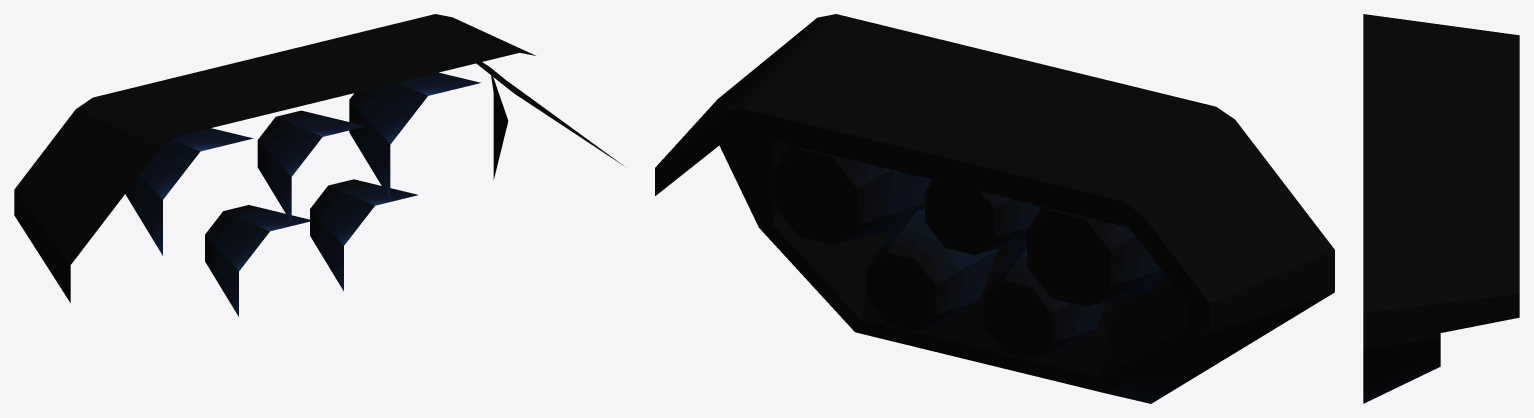
Rendered from engine_hgn_expedition_01_ion_01_t1.glb.
3 views of the same model, side by side, from view 1: azimuth 30°, elevation 25°; view 2: azimuth 150°, elevation 25°; view 3: azimuth 270°, elevation 25° (orthographic). The views are drawn at different scales.
Parts seen in each view (by area): view 1: engine_hgn_expedition_ion_01_t1; view 2: engine_hgn_expedition_ion_01_t1; view 3: engine_hgn_expedition_ion_01_t1.
Part boxes in pixels (box(x1,y1,x2,y2)): engine_hgn_expedition_ion_01_t1: box(14, 14, 623, 316); engine_hgn_expedition_ion_01_t1: box(655, 14, 1334, 403); engine_hgn_expedition_ion_01_t1: box(1363, 14, 1519, 403).
Size of the model in its own units: 1.82 by 0.8819 by 0.4789.
1 material, 1 textured.
